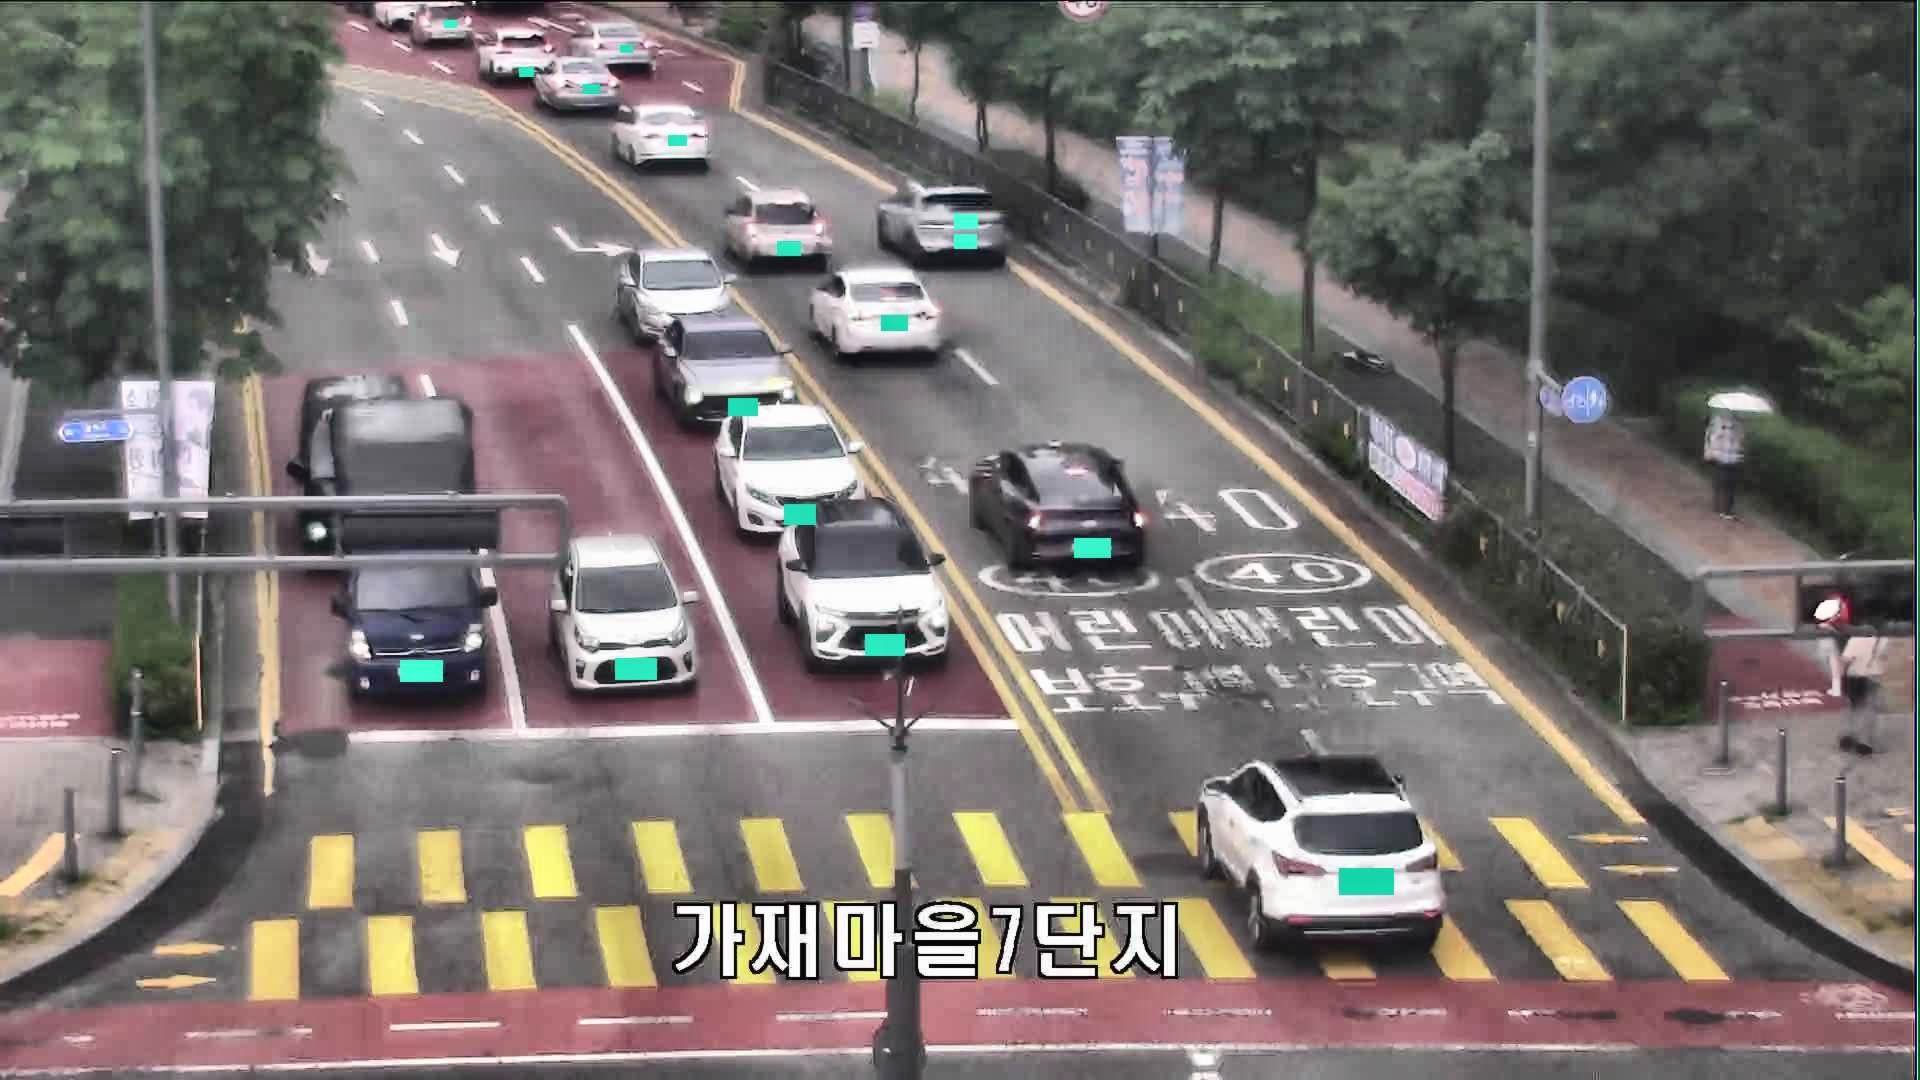sidewalk: (1837, 603, 1886, 752)
um_sidewalk: (1704, 390, 1770, 518)
